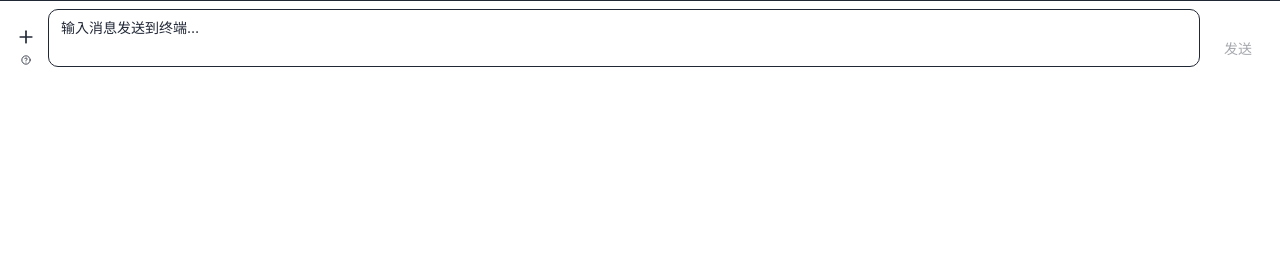
CodexSendFlow：F7 待确认面板按动作隔离（连续两次 Unknown） › f7_recovery_state_isolated_per_action：A Unknown→核对 not_delivered→重试建 B→B Unknown——面板重置，不继承 A 的结论/按钮，核对靶向 B
The image size is (1280, 253).
// A：挂起 → 30 秒 → 面板 → 核对 not_delivered（终态 + 重试按钮）
Type "第一条消息" into the text box with test id "composer-input" at (624, 38), box x1=48 y1=9 x2=1200 y2=67
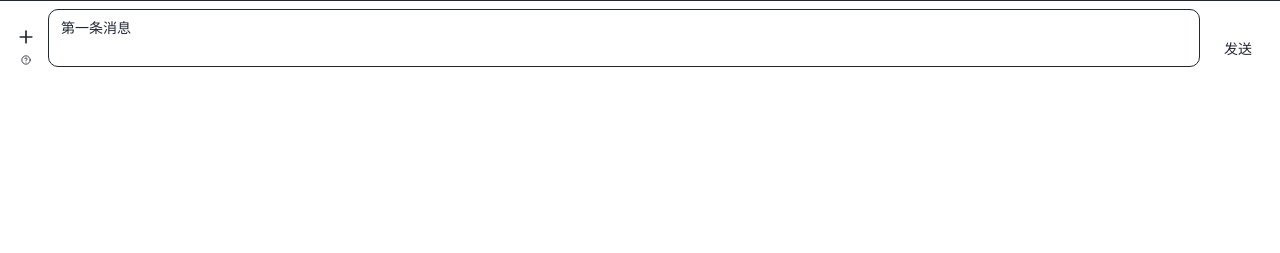
Click the button with test id "composer-send" at (1238, 49), box x1=1208 y1=31 x2=1268 y2=67
Wait 30000 ms
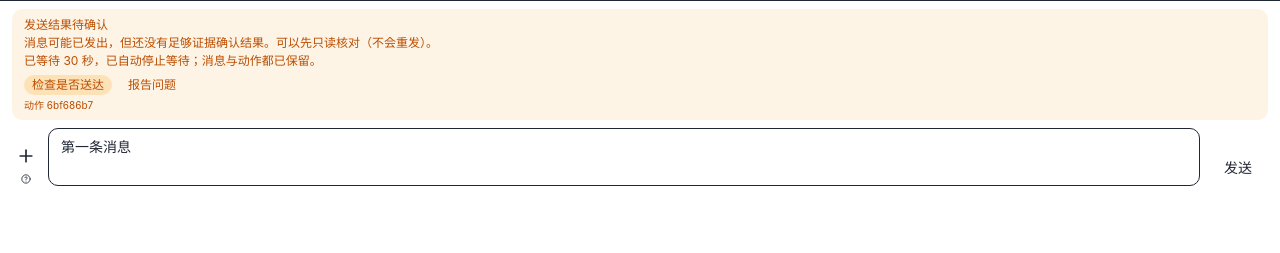
Click the button with test id "codex-recovery-check" at (68, 85), box x1=24 y1=75 x2=112 y2=95
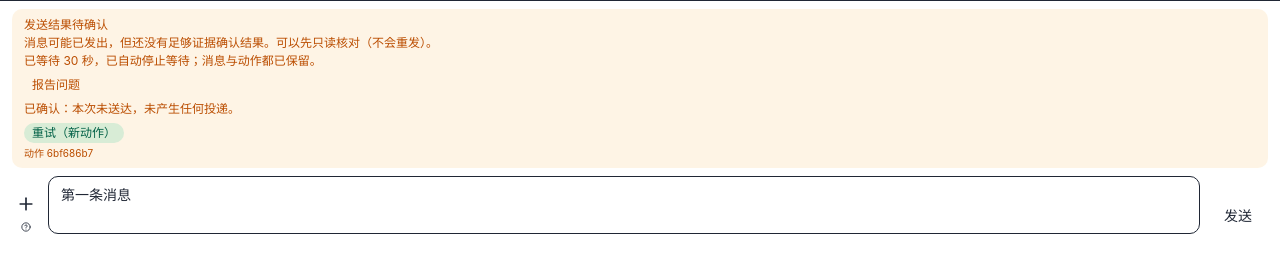
Result: the text with test id "codex-recovery-result" shows "未送达" at x1=24 y1=101 x2=240 y2=116
Result: the button with test id "codex-recovery-retry" is shown
Result: the button with test id "codex-recovery-check" is gone
Click the button with test id "codex-recovery-retry" at (74, 133), box x1=24 y1=123 x2=124 y2=143
Wait 30000 ms
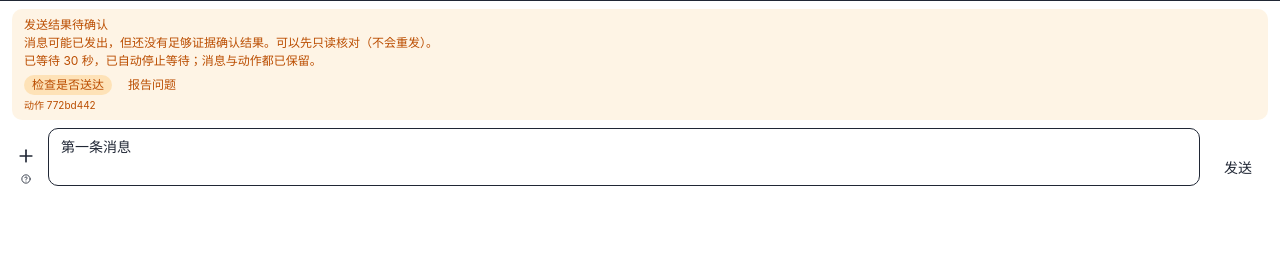
Result: the element with test id "codex-recovery-panel" is shown at x1=12 y1=9 x2=1268 y2=120
Result: the button with test id "codex-recovery-check" is shown
Result: the button with test id "codex-recovery-retry" is gone
// B 的核对靶向 B（不是 A）
Click the button with test id "codex-recovery-check" at (68, 85), box x1=24 y1=75 x2=112 y2=95
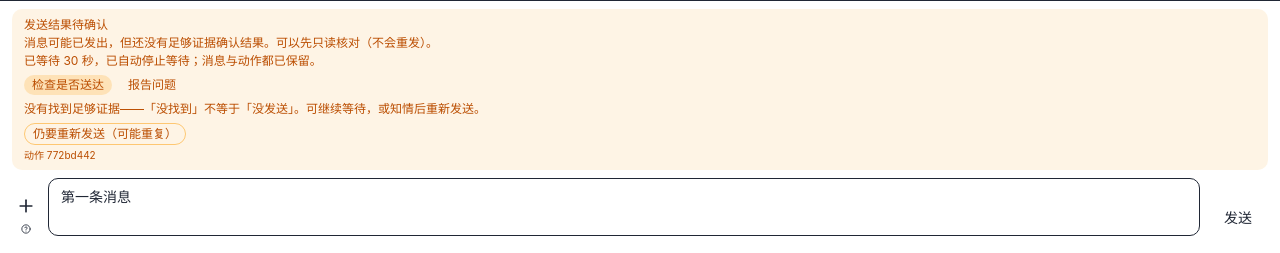
Result: the text with test id "codex-recovery-result" shows "没有找到足够证据" at x1=24 y1=101 x2=486 y2=116
